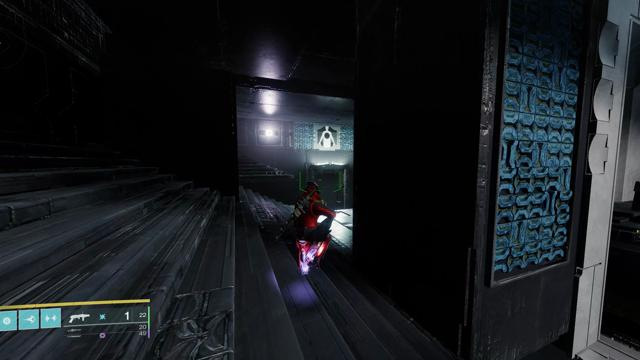grief: (317, 126, 337, 147)
